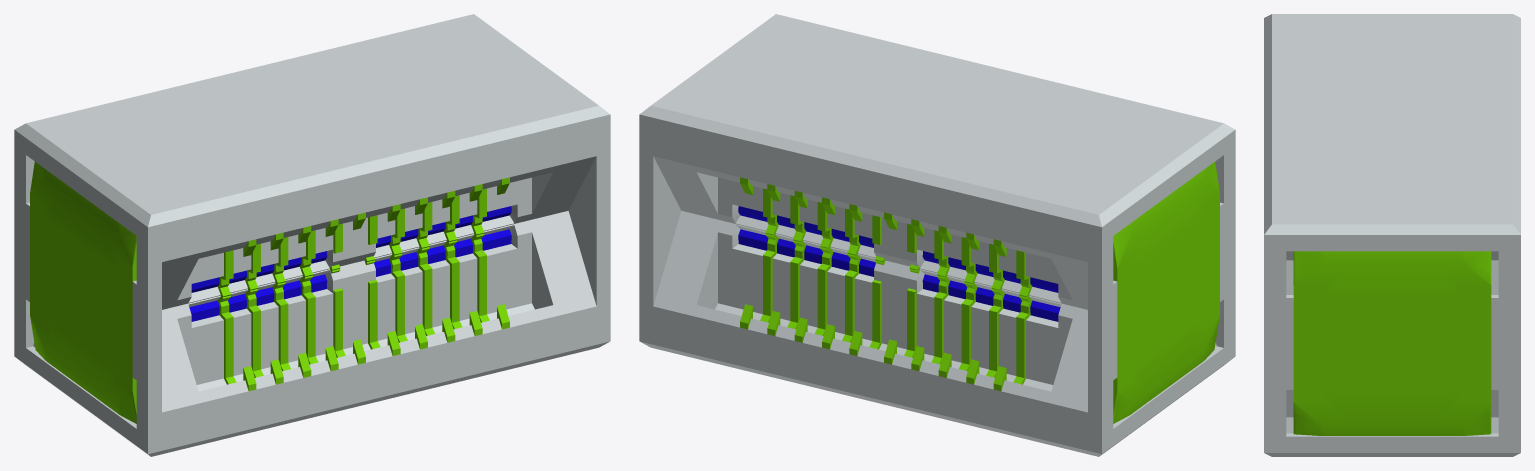
The model's file is Scifi_Prop_ContainerC.fbx.
3 renders of one model, left to right at view 1: azimuth 30°, elevation 25°; view 2: azimuth 150°, elevation 25°; view 3: azimuth 270°, elevation 25°, orthographic. The views are drawn at different scales.
Parts seen in each view (by area): view 1: Cube; view 2: Cube; view 3: Cube.
Boxes of the visible parts, x1=… form: Cube: x1=14, y1=14, x2=610, y2=456; Cube: x1=639, y1=14, x2=1235, y2=456; Cube: x1=1264, y1=14, x2=1520, y2=456.
Size of the model in its own units: 800 by 400 by 400.
